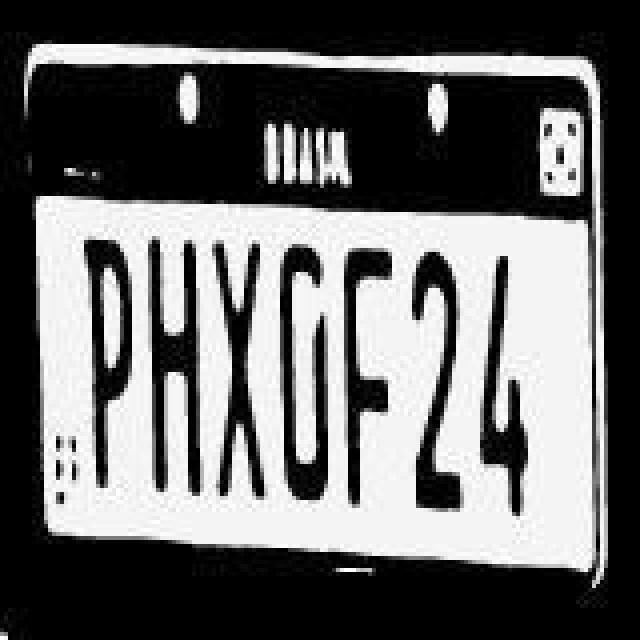2: (402, 230, 462, 522)
4: (472, 252, 544, 524)
D: (276, 238, 332, 514)
F: (332, 242, 388, 510)
H: (146, 220, 206, 500)
P: (76, 214, 132, 490)
X: (212, 226, 268, 502)
